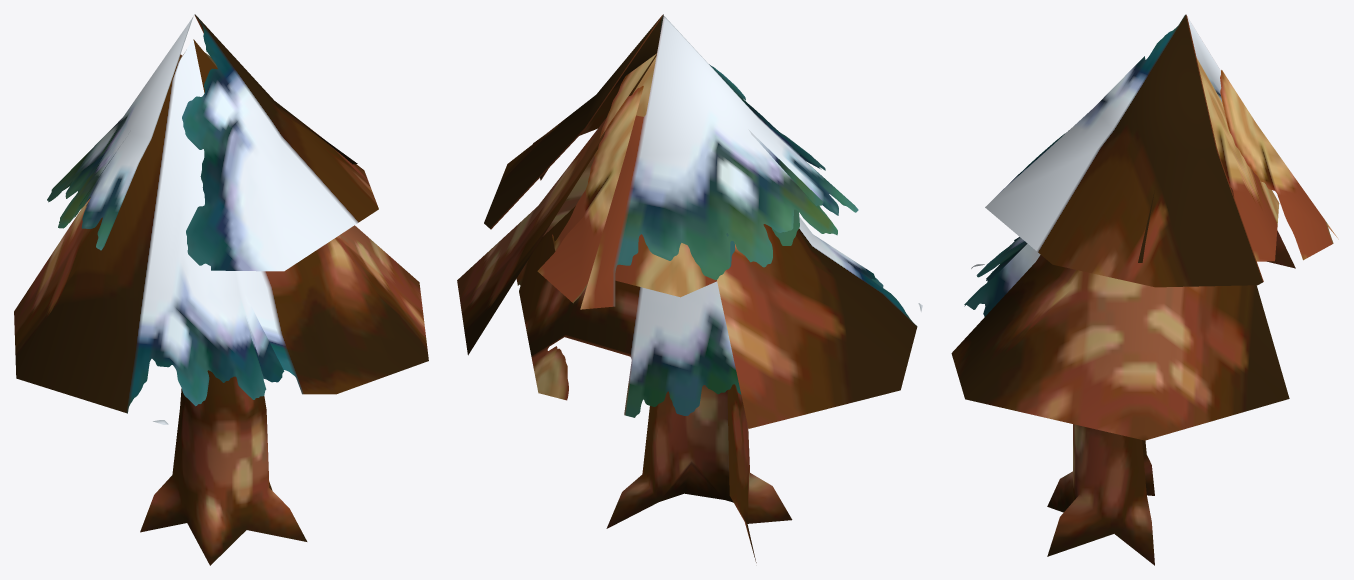
File: fg_treeB_2.dae
3 views of the same model, side by side, from view 1: azimuth 30°, elevation 25°; view 2: azimuth 150°, elevation 25°; view 3: azimuth 270°, elevation 25° (orthographic). The views are drawn at different scales.
Parts seen in each view (by area): view 1: vsn_mesh_0_; view 2: vsn_mesh_0_; view 3: vsn_mesh_0_.
Boxes of the visible parts, bbox=[...] form: vsn_mesh_0_: bbox=[14, 14, 428, 565]; vsn_mesh_0_: bbox=[457, 14, 922, 562]; vsn_mesh_0_: bbox=[951, 14, 1338, 565].
Bounding box in the file's own units: 50.32 × 58.88 × 39.91.
